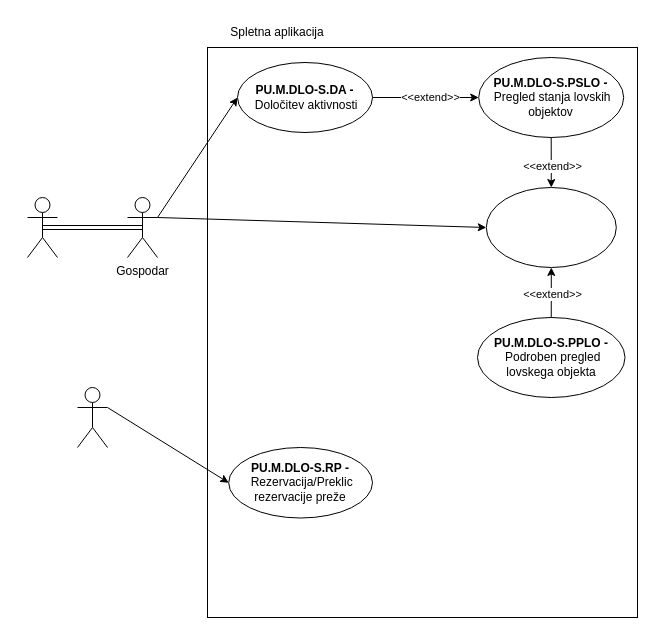
The diagram is 655 pixels wide and 635 high, and some of its shapes have lost their labels. The box of each missing label's shape, as (x1, y1, x2, y2) in pixels:
Lovec: (76, 386, 108, 448)
PU.M.DLO-S.PLO - Pregled seznamov lovskih objektov: (485, 186, 616, 268)
Starešina: (26, 196, 58, 258)
